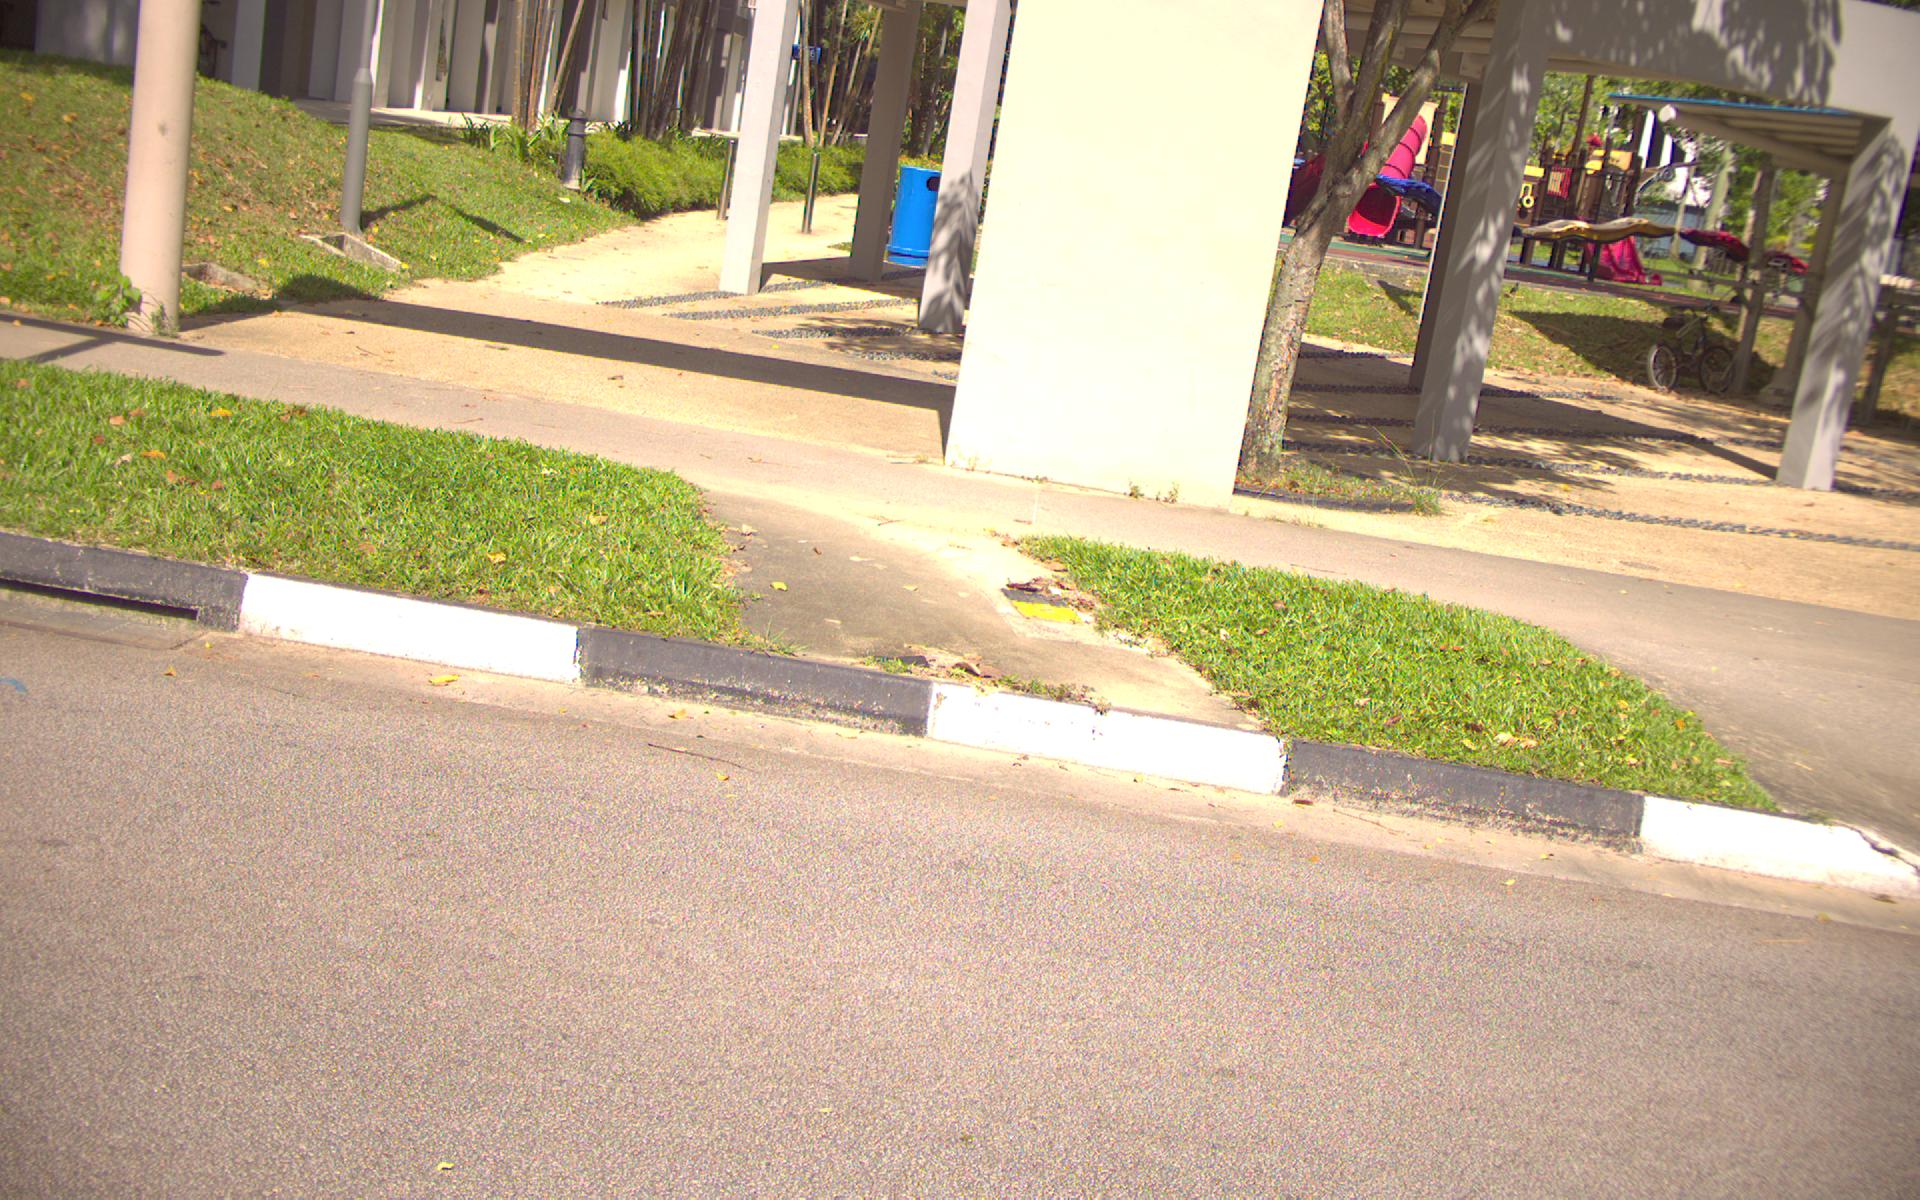pathway_low: (478, 249, 950, 438), (1530, 384, 1920, 612)
road_turf_low: (1258, 593, 1626, 794), (10, 58, 282, 303), (271, 473, 686, 617), (8, 377, 221, 545), (346, 127, 735, 212)
